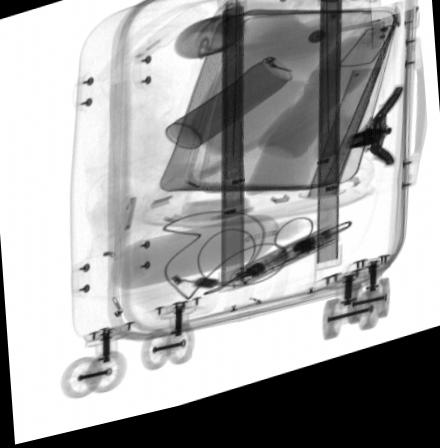Pliers: (349, 106, 402, 185)
